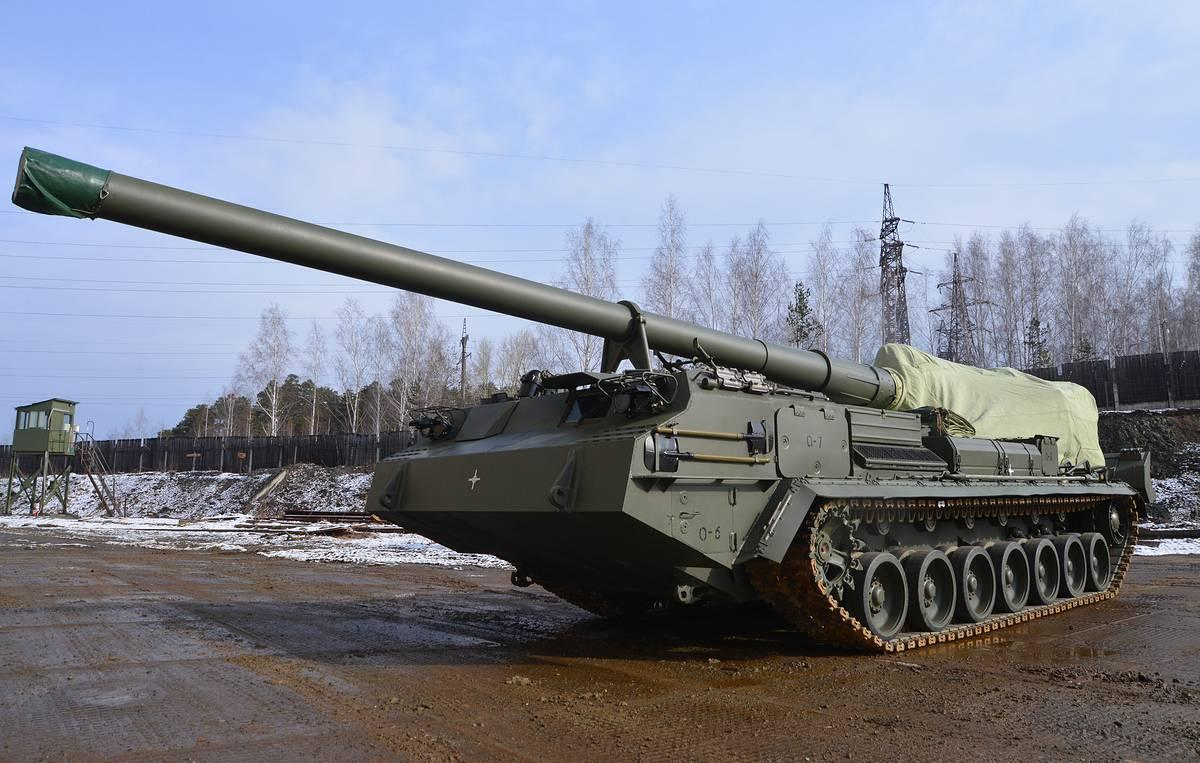sau: (8, 127, 1198, 662)
